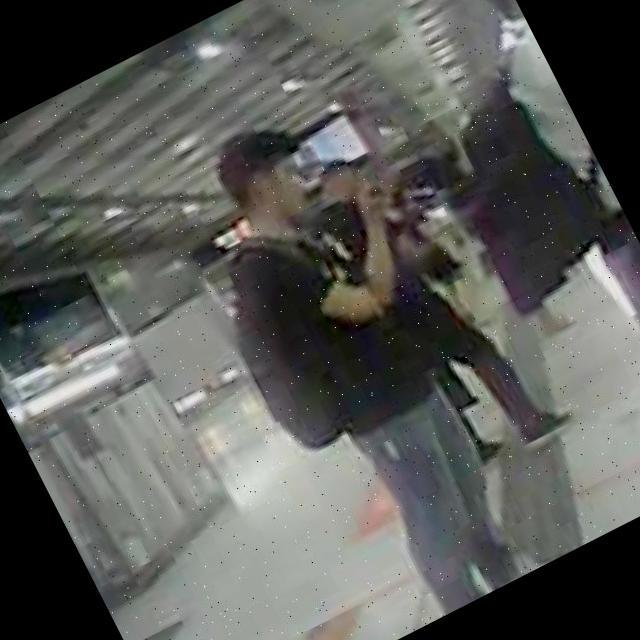person: (160, 80, 575, 640), (286, 112, 579, 494), (430, 0, 640, 487), (415, 128, 577, 355)
